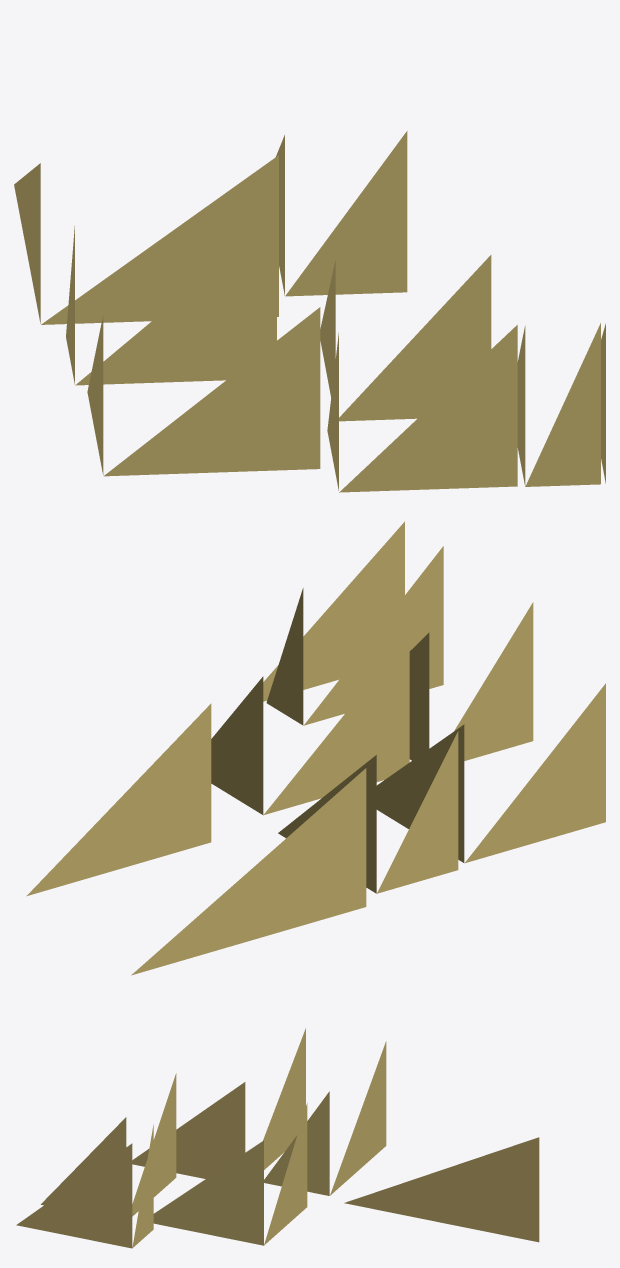
3 renders of one model, top to bottom at view 1: azimuth 30°, elevation 25°; view 2: azimuth 150°, elevation 25°; view 3: azimuth 270°, elevation 25°, orthographic. The views are drawn at different scales.
Bounding box in the file's own units: 22.04 × 7.5 × 38.22.
